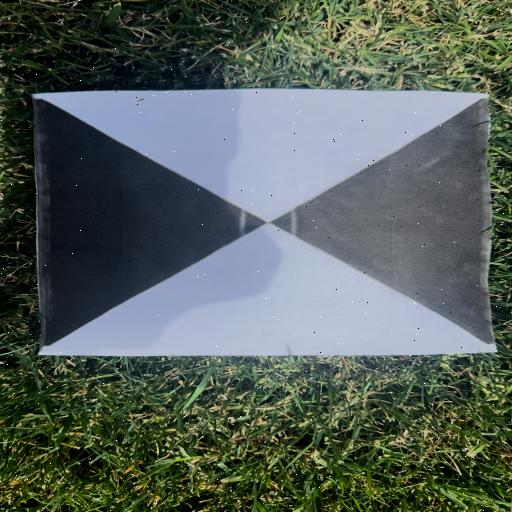target: (36, 94, 498, 353)
